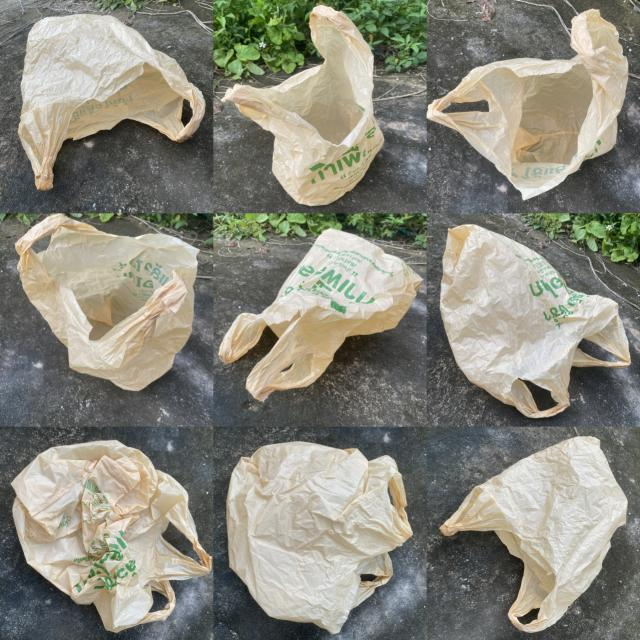Single-layer Plastic: (11, 440, 211, 632), (428, 9, 629, 199), (440, 436, 628, 632), (440, 225, 631, 417), (226, 441, 412, 634), (219, 229, 422, 400), (19, 14, 205, 190), (222, 5, 384, 206), (16, 215, 198, 390)
